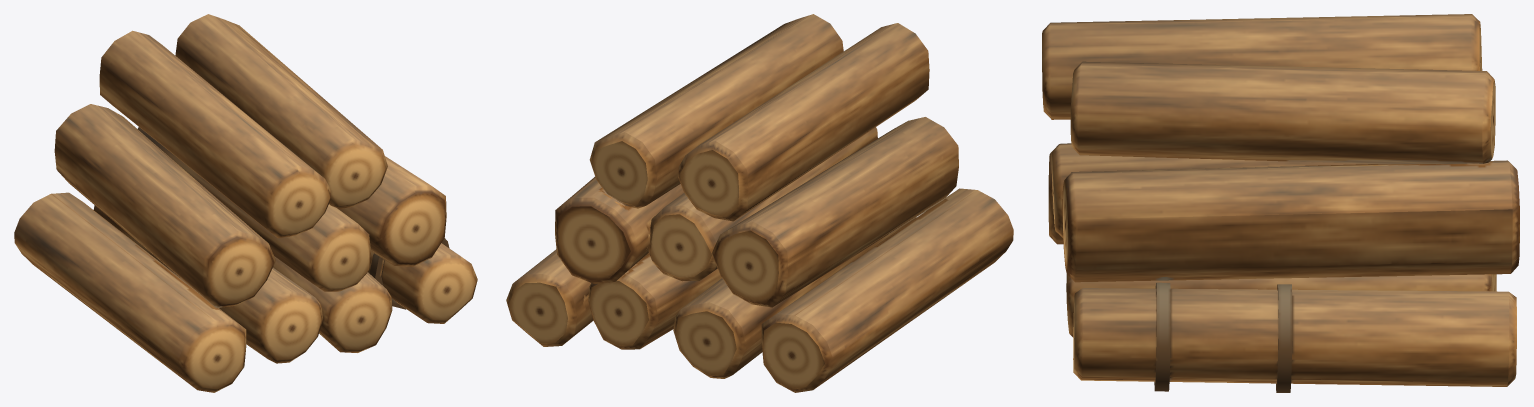
File: log_pile.glb
3 views of the same model, side by side, from view 1: azimuth 30°, elevation 25°; view 2: azimuth 150°, elevation 25°; view 3: azimuth 270°, elevation 25° (orthographic). The views are drawn at different scales.
Visible parts, largest first — view 1: log_pile_game; view 2: log_pile_game; view 3: log_pile_game.
Part boxes in pixels (box(x1,y1,x2,y2)): log_pile_game: box(14, 14, 477, 392); log_pile_game: box(506, 14, 1013, 392); log_pile_game: box(1042, 14, 1519, 392).
Size of the model in its own units: 1.13 by 0.7766 by 1.21.
Materials: 1 (1 with a texture image).
